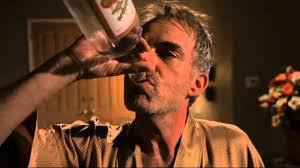Drunk: (131, 26, 190, 109)
